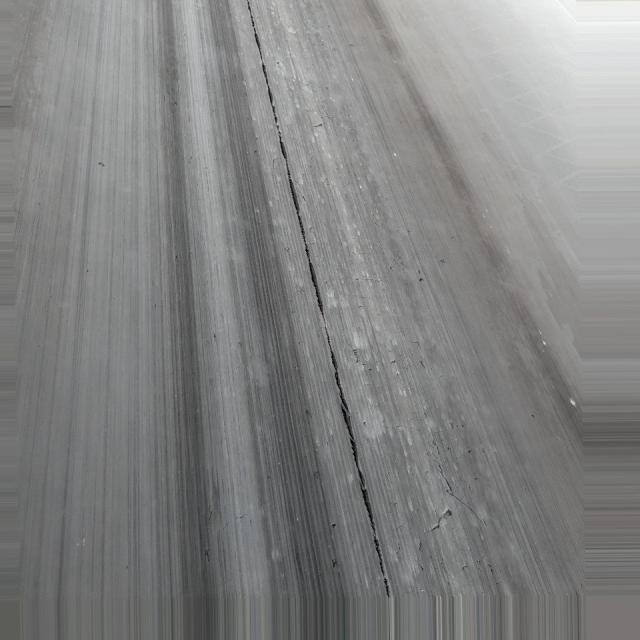Tear: (237, 0, 409, 592)
